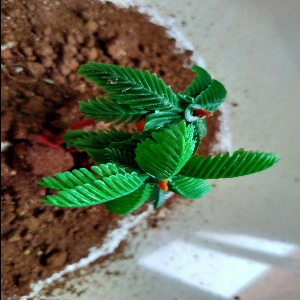plant: (54, 61, 278, 229)
